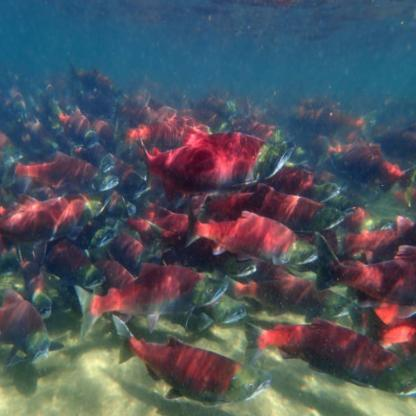sockeye: (117, 314, 265, 412), (257, 301, 402, 389), (135, 113, 279, 187), (84, 250, 220, 321), (0, 186, 84, 246)
sockeye-group: (5, 86, 416, 372)
